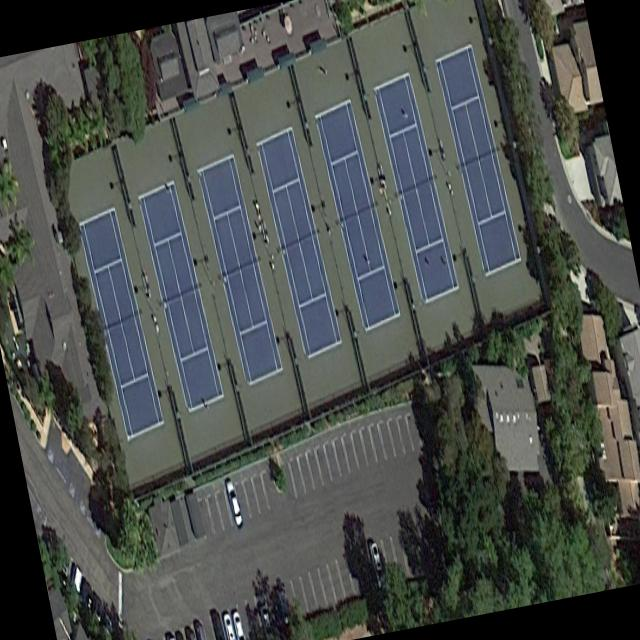small-vehicle: (224, 476, 243, 531), (369, 541, 385, 586), (259, 603, 274, 640), (230, 610, 244, 640), (210, 611, 224, 640), (221, 610, 234, 640), (193, 622, 205, 640), (186, 630, 195, 640)
